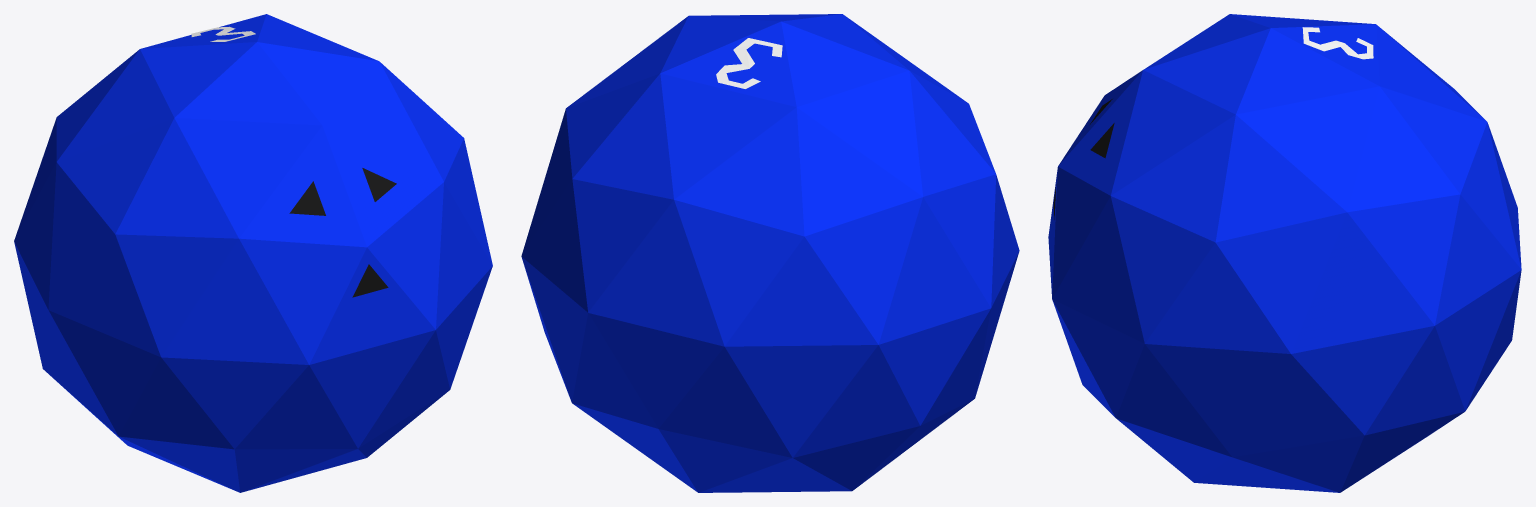
Rendered from Bowling_Ball_3.fbx.
3 renders of one model, left to right at view 1: azimuth 30°, elevation 25°; view 2: azimuth 150°, elevation 25°; view 3: azimuth 270°, elevation 25°, orthographic. The views are drawn at different scales.
Parts seen in each view (by area): view 1: Bowling_Ball_3; view 2: Bowling_Ball_3; view 3: Bowling_Ball_3.
Part boxes in pixels (x1,y1,x2,y2): Bowling_Ball_3: (14, 14, 492, 492); Bowling_Ball_3: (521, 14, 1019, 492); Bowling_Ball_3: (1048, 14, 1521, 492).
Size of the model in its own units: 28.65 by 28.61 by 27.42.
